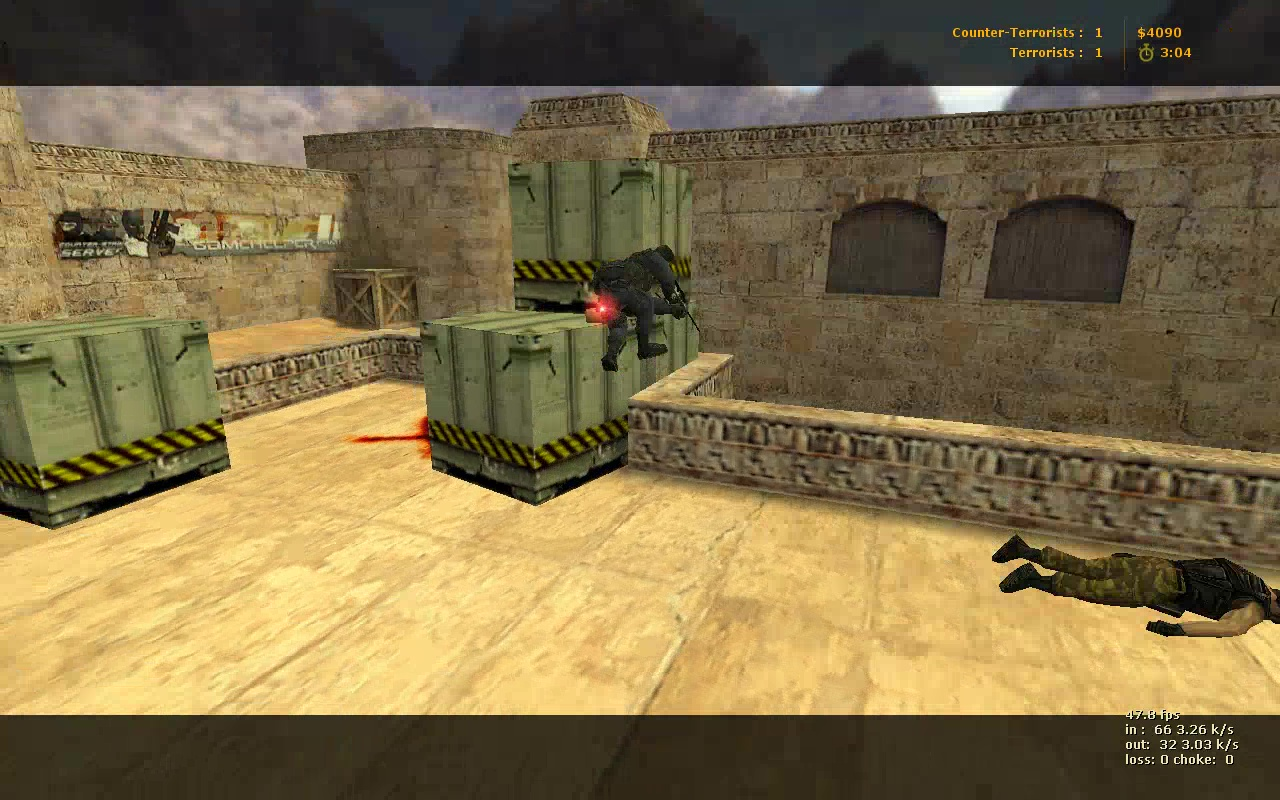ct: (590, 242, 692, 372)
dead: (987, 530, 1280, 644)
